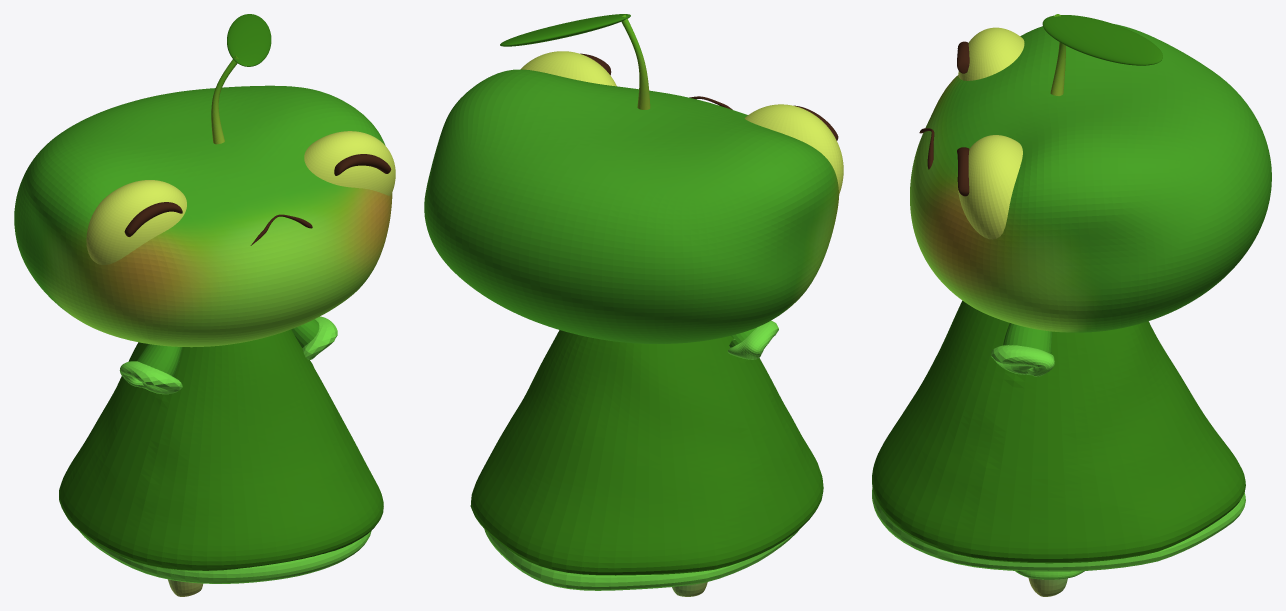
File: feeding.glb
The picture shows the model from 3 angles, left to right: view 1: azimuth 30°, elevation 25°; view 2: azimuth 150°, elevation 25°; view 3: azimuth 270°, elevation 25°; orthographic projection. The views are drawn at different scales.
Parts seen in each view (by area): view 1: Quad Sphere, Cone, UV Sphere (×2), Tube (×6), Cone 1, UV Sphere 1; view 2: Quad Sphere, Cone, UV Sphere (×2), Cone 1, Tube (×2), UV Sphere 1; view 3: Quad Sphere, Cone, UV Sphere (×2), Tube (×5), Cone 1, UV Sphere 1.
Boxes of the visible parts, bbox=[...] form: Quad Sphere: bbox=[14, 85, 392, 347]; Cone: bbox=[59, 329, 383, 570]; UV Sphere (×2): bbox=[86, 131, 395, 264]; Tube (×6): bbox=[119, 55, 391, 394]; Cone 1: bbox=[80, 531, 371, 583]; UV Sphere 1: bbox=[227, 14, 271, 66]; Quad Sphere: bbox=[424, 69, 839, 343]; Cone: bbox=[470, 330, 823, 575]; UV Sphere (×2): bbox=[520, 51, 843, 194]; Cone 1: bbox=[484, 528, 800, 590]; Tube (×2): bbox=[621, 14, 778, 359]; UV Sphere 1: bbox=[500, 14, 630, 46]; Quad Sphere: bbox=[910, 24, 1271, 332]; Cone: bbox=[872, 300, 1245, 563]; UV Sphere (×2): bbox=[958, 27, 1024, 239]; Tube (×5): bbox=[957, 14, 1067, 596]; Cone 1: bbox=[872, 488, 1245, 571]; UV Sphere 1: bbox=[1042, 15, 1162, 65].
Size of the model in its own units: 0.3298 by 0.5038 by 0.3188.
